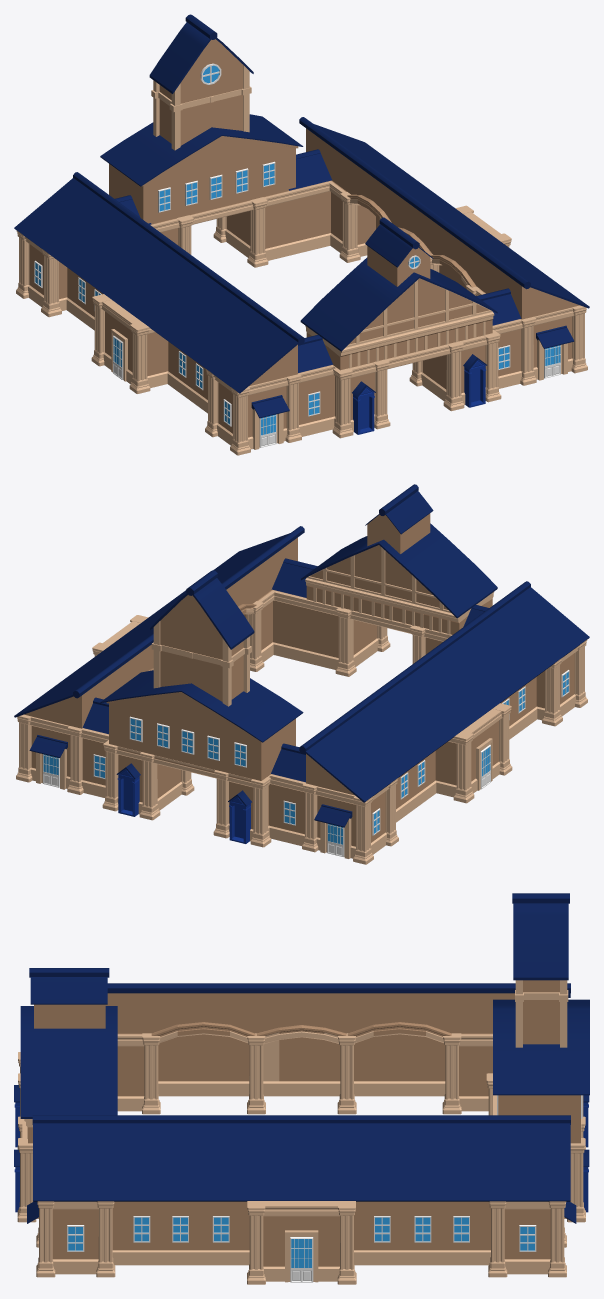
File: Monument_Court_BadLightMap.fbx
3 renders of one model, top to bottom at view 1: azimuth 30°, elevation 25°; view 2: azimuth 150°, elevation 25°; view 3: azimuth 270°, elevation 25°, orthographic. The views are drawn at different scales.
Parts seen in each view (by area): view 1: Base; view 2: Base; view 3: Base.
Part boxes in pixels (left/top/right/bottom): Base: left=14, top=14, right=589, bottom=455; Base: left=14, top=484, right=589, bottom=864; Base: left=14, top=893, right=589, bottom=1284.
Size of the model in its own units: 26.35 by 15.75 by 29.27.
